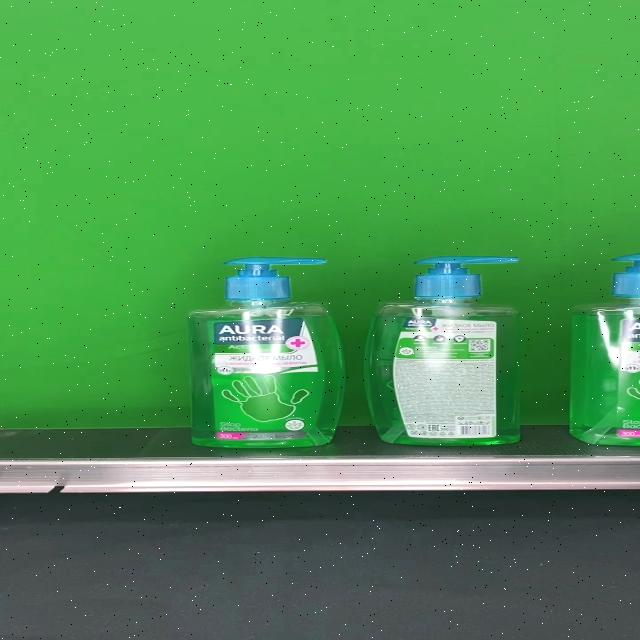Bottle: (187, 256, 345, 448), (363, 256, 520, 446)
Cap: (414, 256, 519, 297), (224, 257, 326, 299)
